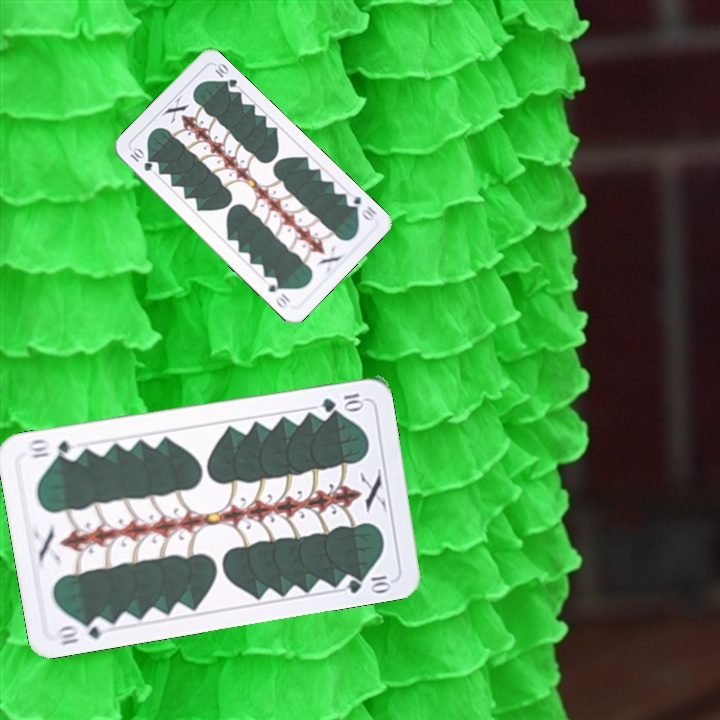G10: (53, 614, 112, 648), (342, 189, 379, 225), (317, 389, 366, 415), (126, 144, 155, 174)
